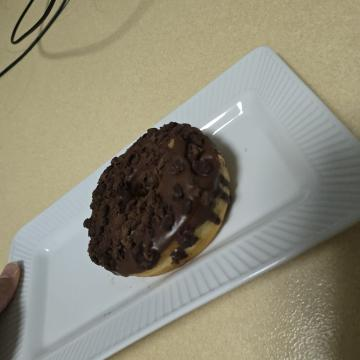doughnut: (113, 112, 281, 296)
